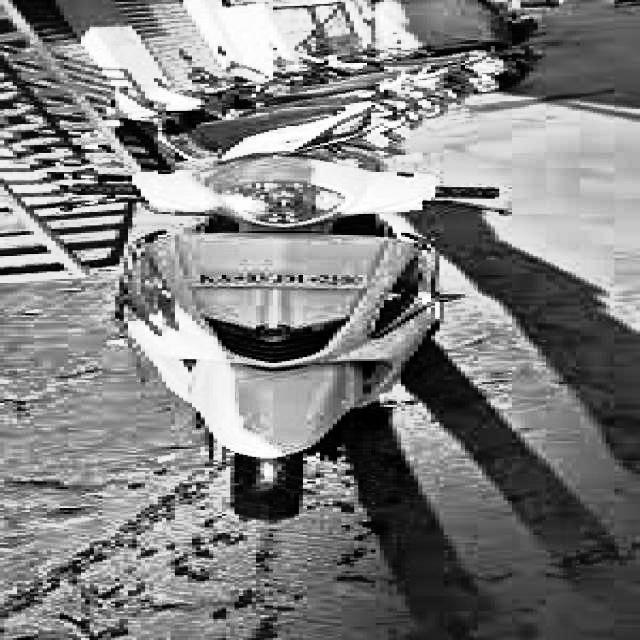Bike: (50, 164, 516, 519)
